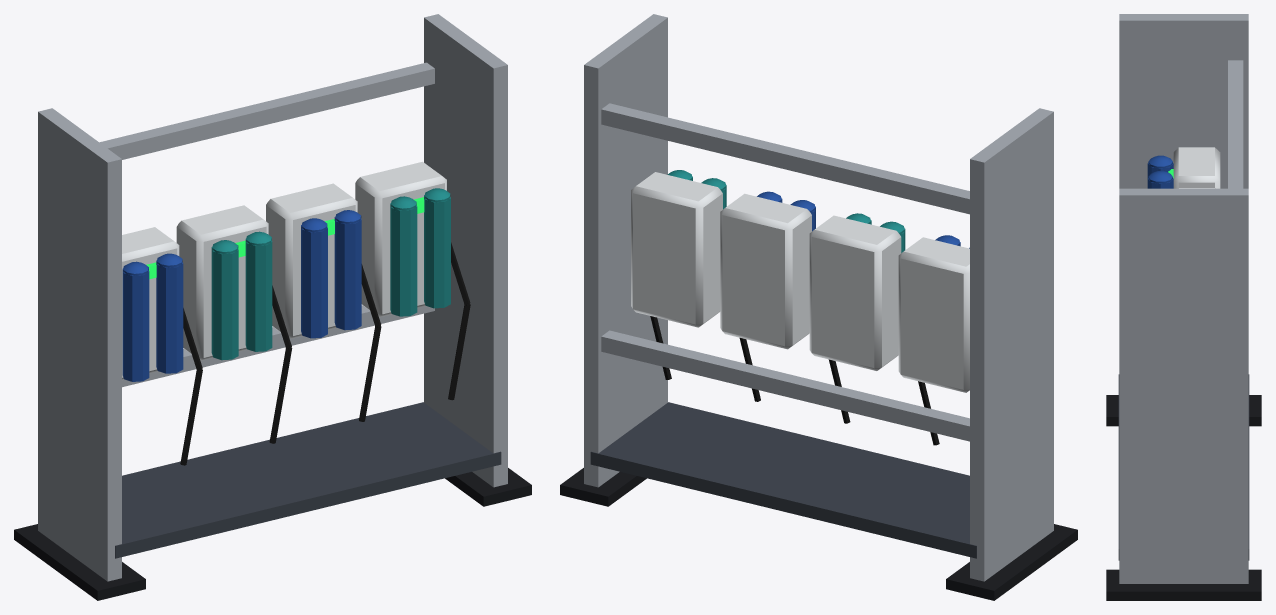
Rendered from suitrack_oxygen_pack_rack.glb.
The picture shows the model from 3 angles, left to right: view 1: azimuth 30°, elevation 25°; view 2: azimuth 150°, elevation 25°; view 3: azimuth 270°, elevation 25°; orthographic projection. The views are drawn at different scales.
Visible parts, largest first — view 1: suitrack_oxygen_pack_rack; view 2: suitrack_oxygen_pack_rack; view 3: suitrack_oxygen_pack_rack.
Boxes of the visible parts, left/top/right/bottom form: suitrack_oxygen_pack_rack: left=14, top=14, right=531, bottom=600; suitrack_oxygen_pack_rack: left=560, top=14, right=1077, bottom=600; suitrack_oxygen_pack_rack: left=1106, top=14, right=1261, bottom=600.
Size of the model in its own units: 1.8 by 1.7 by 0.6.
